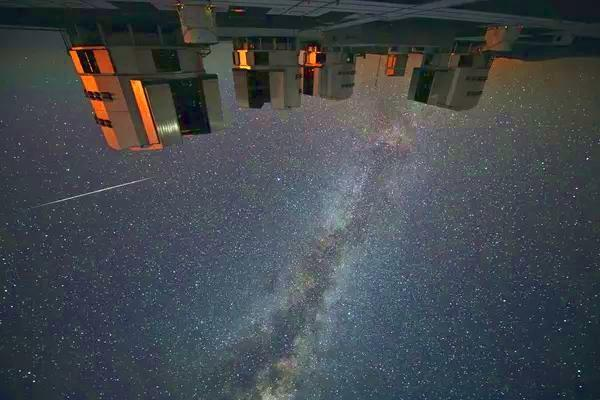meteorite: (19, 172, 163, 210)
